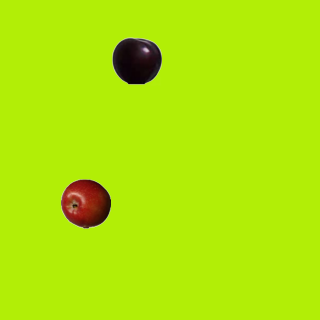Apple Braeburn: (60, 178, 110, 228)
Cherry Wax Black: (111, 35, 161, 85)
